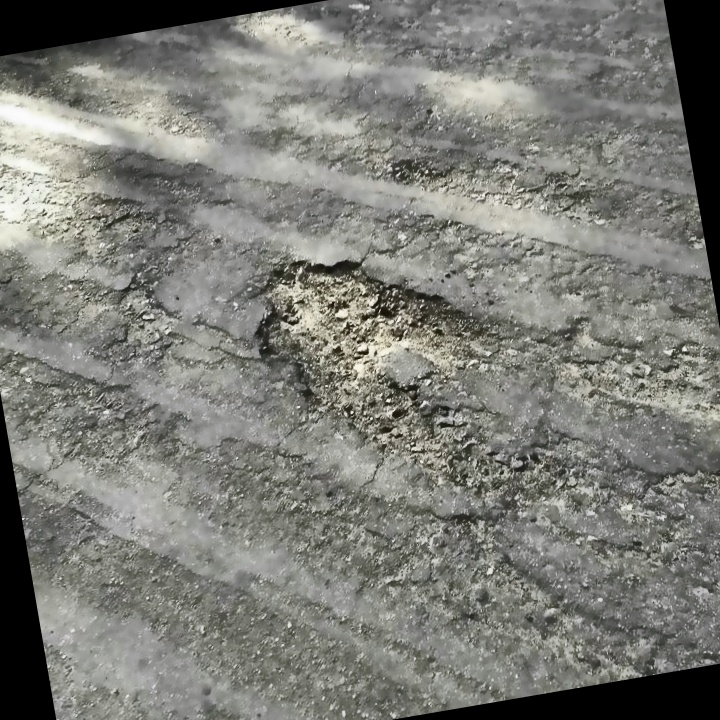pothole: (237, 222, 518, 504)
